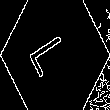L_NE: (29, 29, 81, 81)
